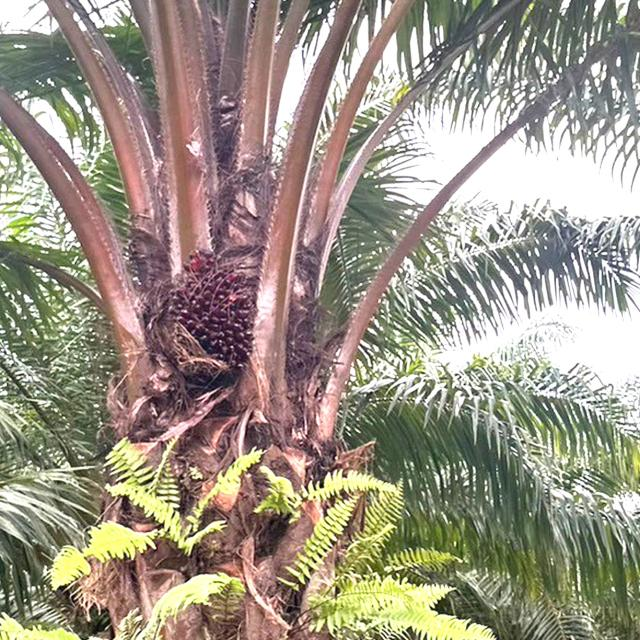ripe: (155, 247, 261, 379)
